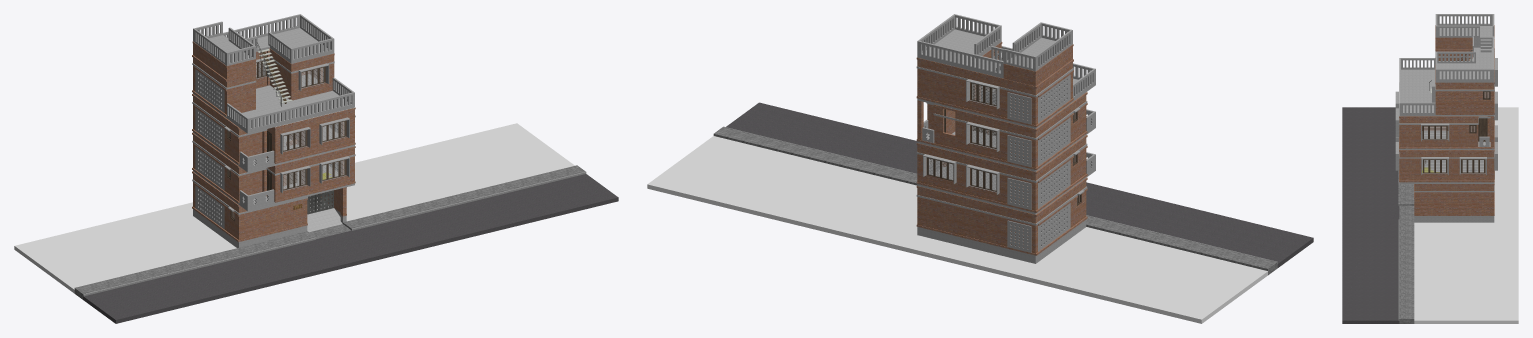
The picture shows the model from 3 angles, left to right: view 1: azimuth 30°, elevation 25°; view 2: azimuth 150°, elevation 25°; view 3: azimuth 270°, elevation 25°; orthographic projection. The views are drawn at different scales.
Parts seen in each view (by area): view 1: Geom3D_ (×19), Geom3D (×9), Geom3D_Union (×4); view 2: Geom3D_ (×12), Geom3D (×9), Geom3D_Union (×8); view 3: Geom3D_ (×24), Geom3D (×25).
Part boxes in pixels (x1=…): Geom3D_ (×19): x1=14, y1=14, x2=618, y2=323; Geom3D (×9): x1=83, y1=28, x2=586, y2=296; Geom3D_Union (×4): x1=195, y1=69, x2=224, y2=229; Geom3D_ (×12): x1=647, y1=14, x2=1313, y2=323; Geom3D (×9): x1=917, y1=29, x2=1086, y2=263; Geom3D_Union (×8): x1=1007, y1=74, x2=1070, y2=252; Geom3D_ (×24): x1=1342, y1=14, x2=1518, y2=323; Geom3D (×25): x1=1398, y1=26, x2=1494, y2=320.
Size of the model in its own units: 41.35 by 15.04 by 14.46.
17 materials, 11 textured.
